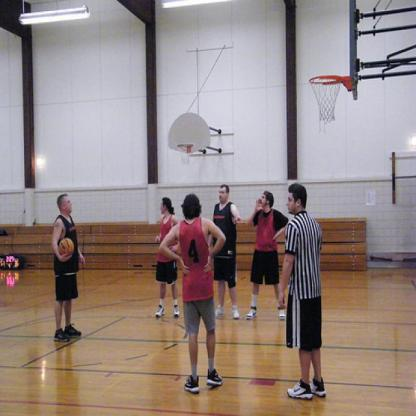basketball: (57, 236, 74, 258)
rim: (310, 74, 342, 89), (177, 143, 193, 150)
